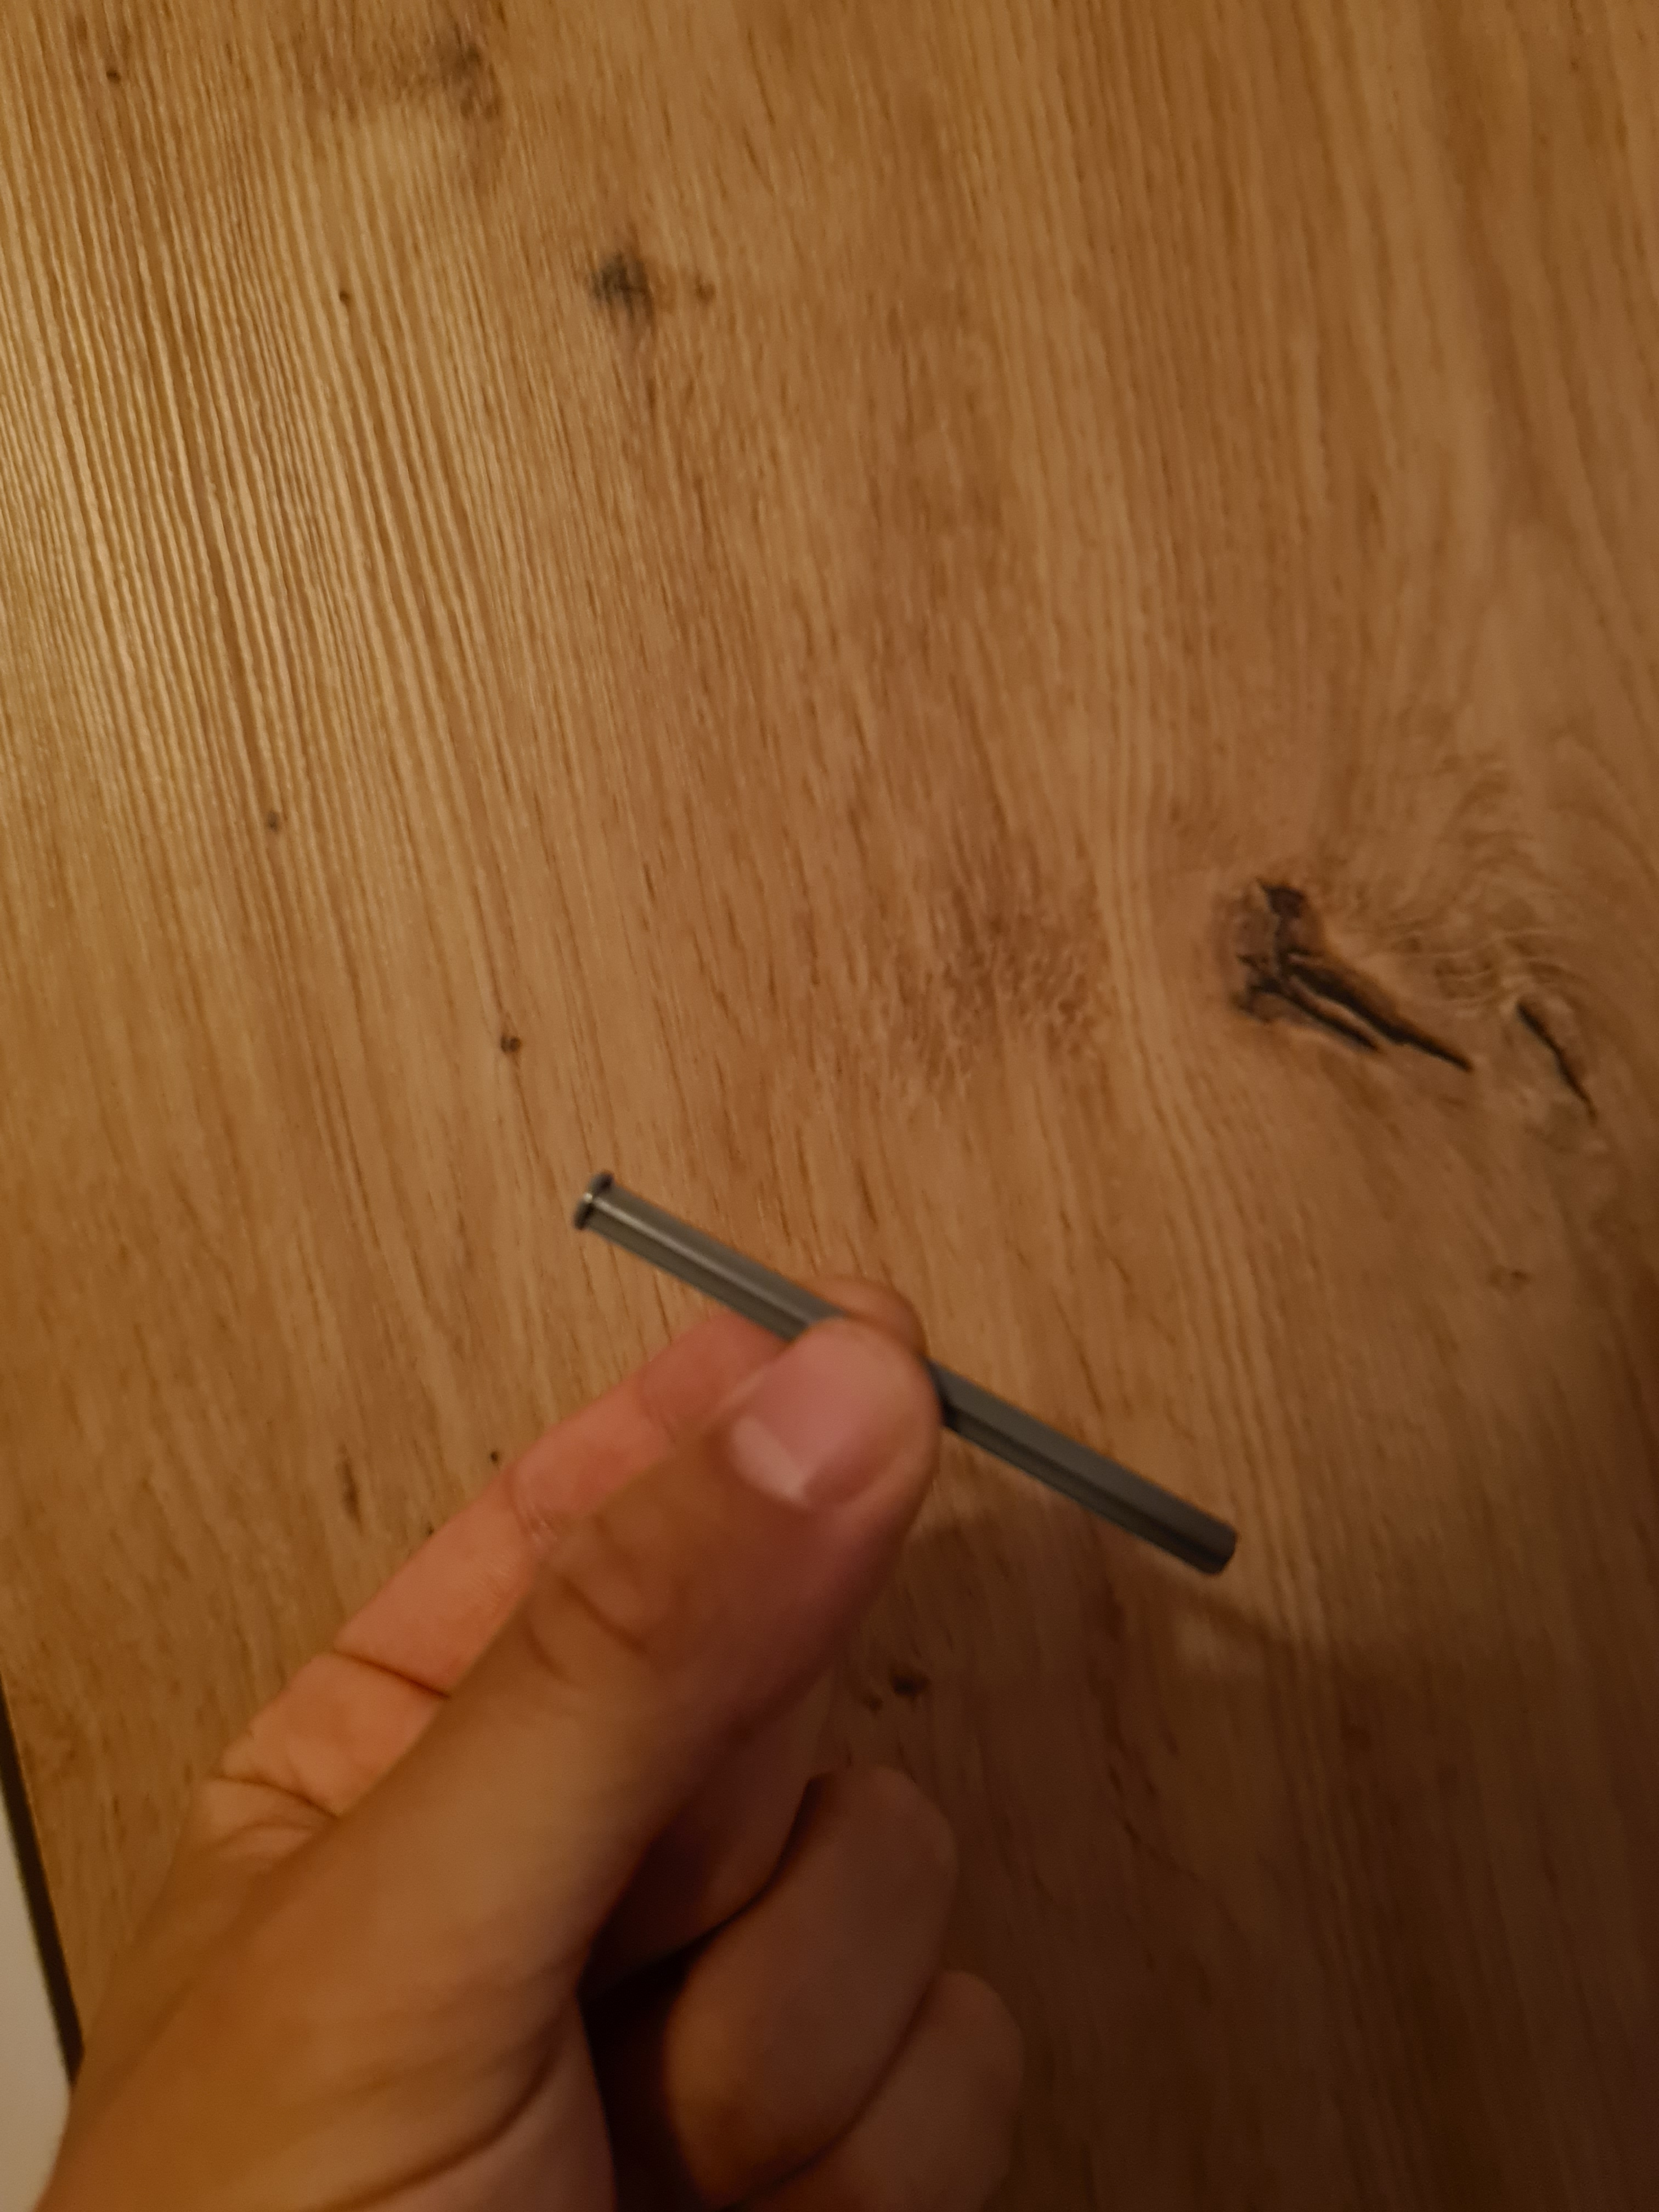Grau_lang: (558, 1127, 1279, 1632)
